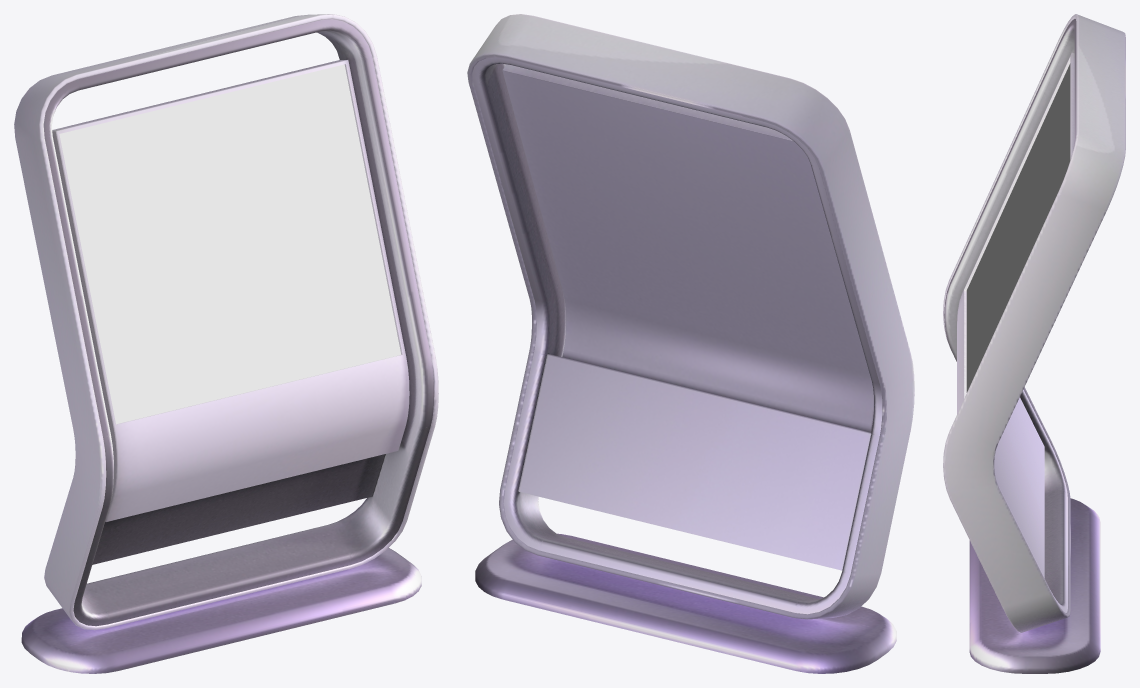
The picture shows the model from 3 angles, left to right: view 1: azimuth 30°, elevation 25°; view 2: azimuth 150°, elevation 25°; view 3: azimuth 270°, elevation 25°; orthographic projection. The views are drawn at different scales.
Parts seen in each view (by area): view 1: Flat_08011735, Cube.002, Cube.003, Cube, Cube.005, Cube.004; view 2: Cube.003, Cube.004, Cube, Cube.002, Cube.005; view 3: Cube, Cube.005, Flat_08011735, Cube.002, Cube.004, Cube.003.
Boxes of the visible parts, x1,y1,x2,y2 form: Flat_08011735: (59,64,401,424); Cube.002: (43,19,434,626); Cube.003: (52,60,409,521); Cube: (14,14,438,630); Cube.005: (21,548,421,673); Cube.004: (92,454,385,564); Cube.003: (502,64,873,432); Cube.004: (518,354,871,570); Cube: (467,14,914,619); Cube.002: (472,57,882,614); Cube.005: (475,533,896,673); Cube: (943,14,1125,632); Cube.005: (969,498,1100,673); Flat_08011735: (966,63,1070,392); Cube.002: (944,18,1076,612); Cube.004: (994,397,1044,577); Cube.003: (957,52,1074,413).
Size of the model in its own units: 1.16 by 1.63 by 0.5264.
Materials: 5 (4 with a texture image).
